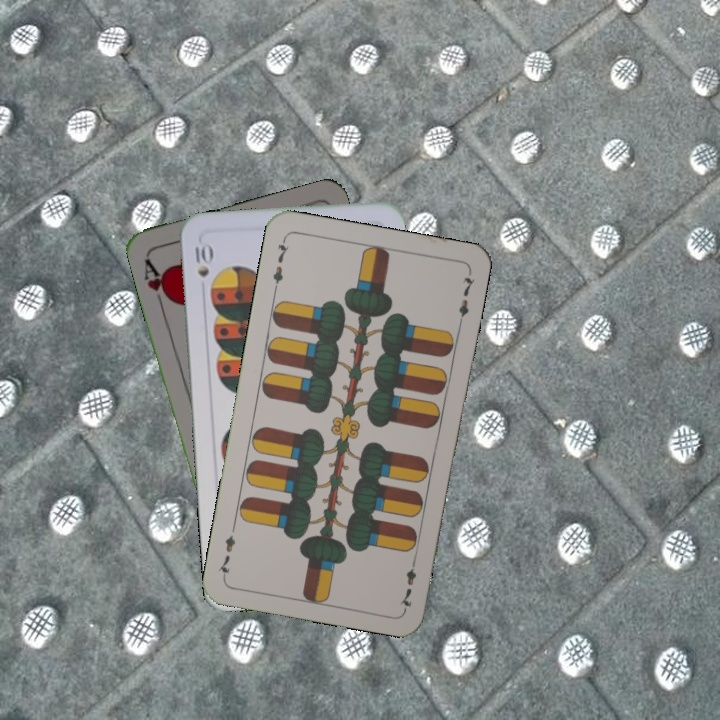E7: (269, 235, 292, 293), (396, 553, 419, 611)
HA: (140, 254, 175, 311)
S10: (191, 242, 213, 279)
